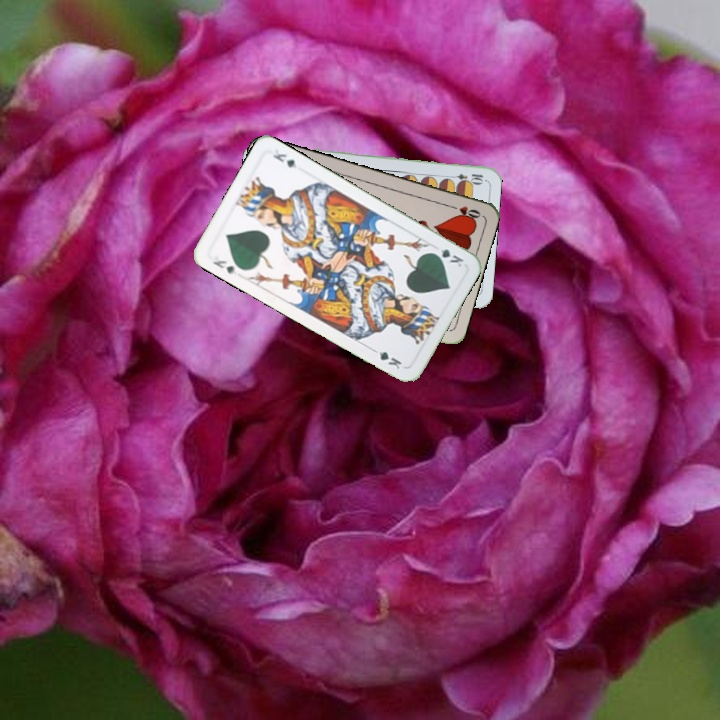E10: (445, 169, 486, 184)
GK: (427, 245, 466, 270), (209, 252, 240, 277)
HO: (444, 201, 483, 222)
